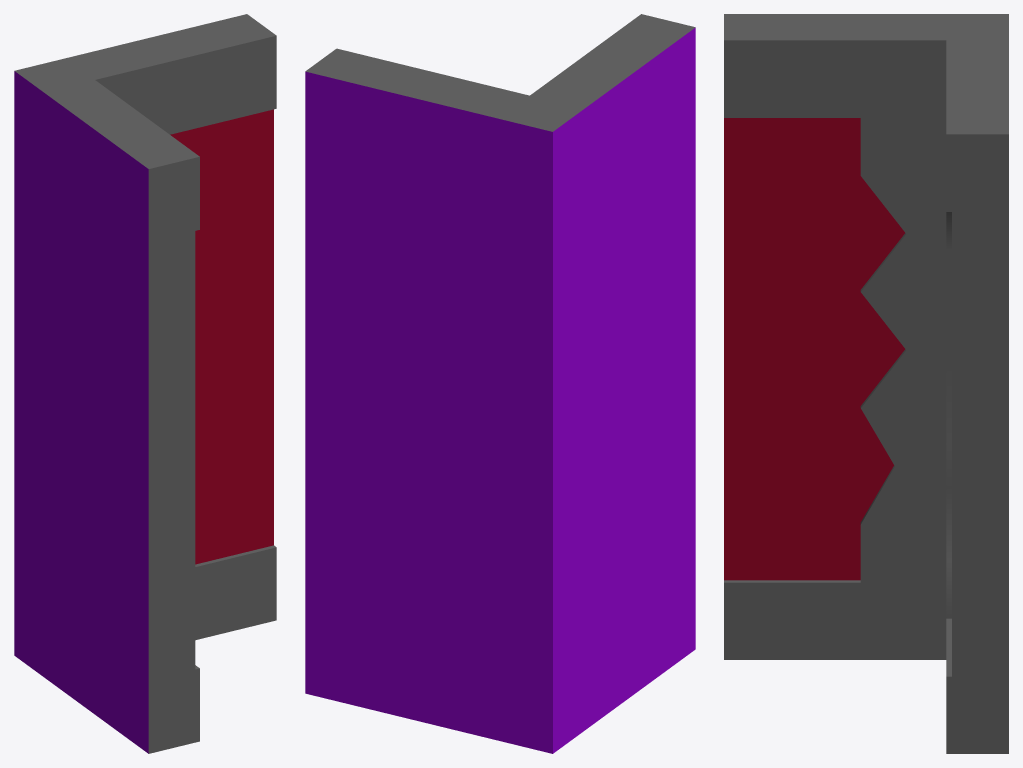
File: Wall_INCorner_X_1x3.fbx
3 views of the same model, side by side, from view 1: azimuth 30°, elevation 25°; view 2: azimuth 150°, elevation 25°; view 3: azimuth 270°, elevation 25° (orthographic). The views are drawn at different scales.
Visible parts, largest first — view 1: Corner_In_1x4; view 2: Corner_In_1x4; view 3: Corner_In_1x4.
Part boxes in pixels (x1,y1,x2,y2): Corner_In_1x4: (14, 14, 276, 753); Corner_In_1x4: (305, 14, 695, 753); Corner_In_1x4: (724, 14, 1008, 753).
Size of the model in its own units: 1.25 by 3 by 1.25.
